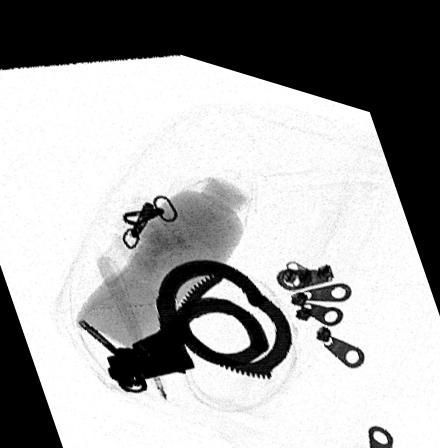HandCuffs: (75, 244, 294, 387)
